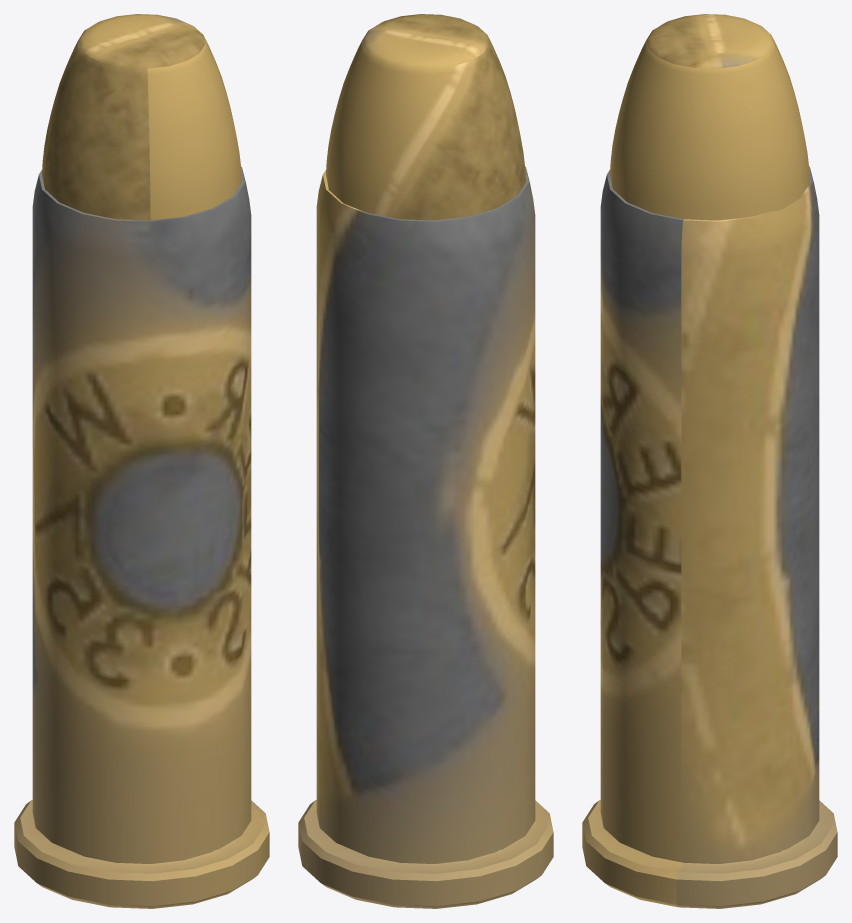
Rendered from gun-r357.glb.
3 renders of one model, left to right at view 1: azimuth 30°, elevation 25°; view 2: azimuth 150°, elevation 25°; view 3: azimuth 270°, elevation 25°, orthographic.
Parts seen in each view (by area): view 1: frame_m, bullet_m; view 2: frame_m, bullet_m; view 3: frame_m, bullet_m.
Part boxes in pixels (left/top/right/bottom): frame_m: left=14, top=166, right=269, bottom=908; bullet_m: left=42, top=14, right=241, bottom=220; frame_m: left=298, top=166, right=553, bottom=908; bullet_m: left=326, top=14, right=525, bottom=220; frame_m: left=582, top=166, right=837, bottom=908; bullet_m: left=610, top=14, right=809, bottom=220.
Bounding box in the file's own units: 0.0112 × 0.04 × 0.0112.
1 material, 1 textured.
